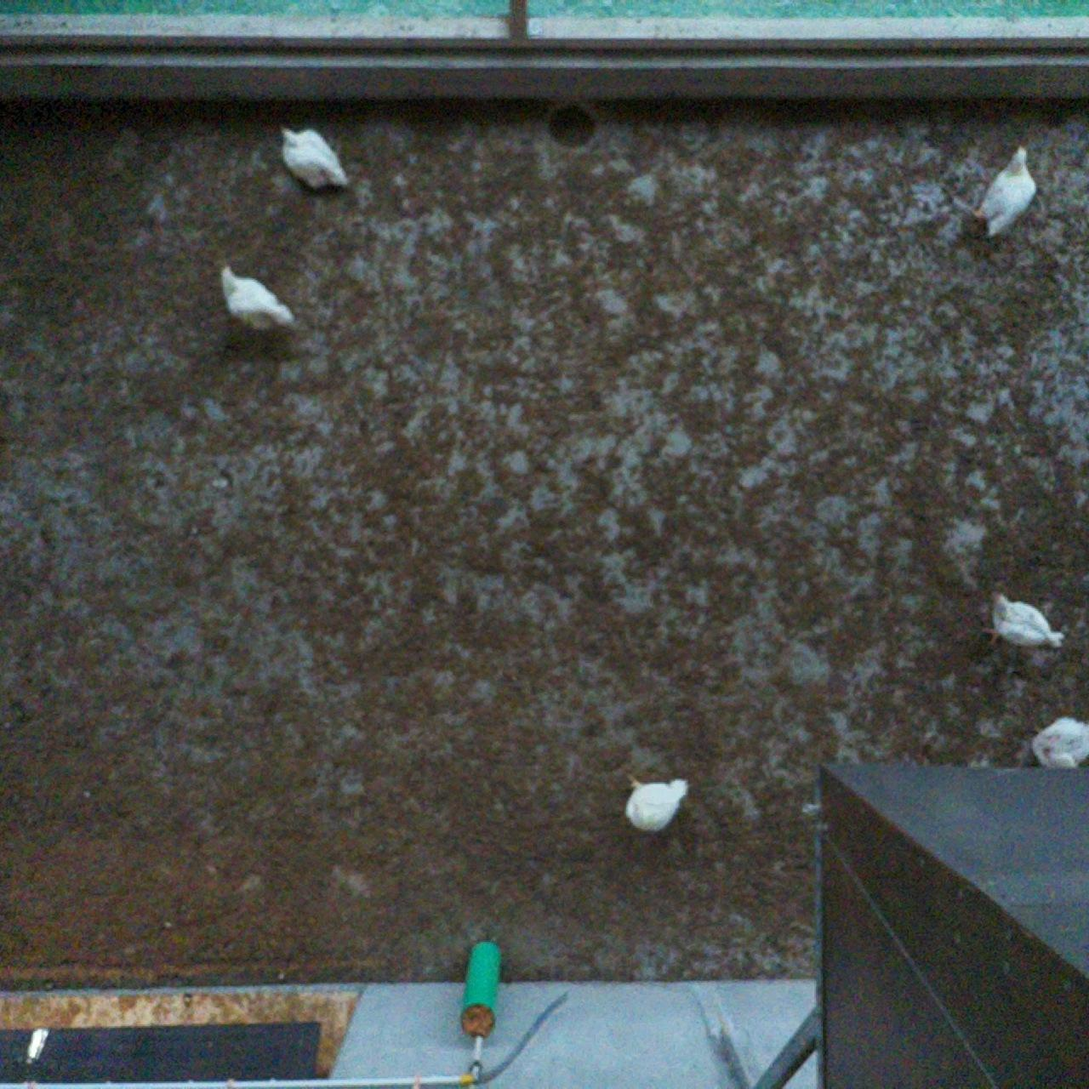chicken: (966, 142, 1043, 247), (212, 254, 300, 339), (273, 121, 358, 203), (968, 584, 1066, 654), (618, 770, 693, 837), (1027, 710, 1089, 773)
